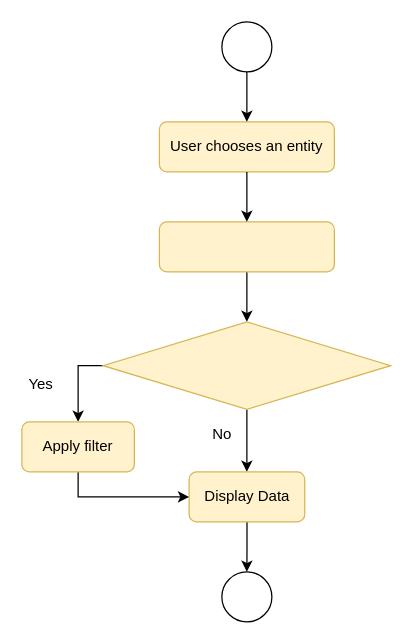
The diagram is 413 pixels wide and 644 high, and some of its shapes have lost their labels. Each missing label, with the centre of its shape:
Access the repository: (246,246)
Are any filters being applied?: (246,365)
